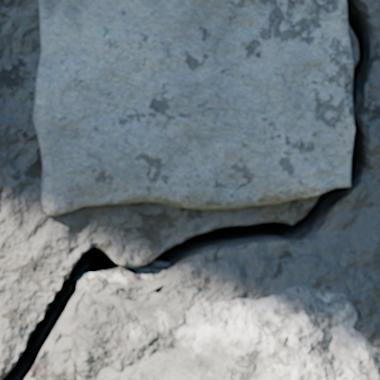brick: (33, 0, 353, 215), (72, 285, 379, 379)
crack: (0, 0, 378, 379)
